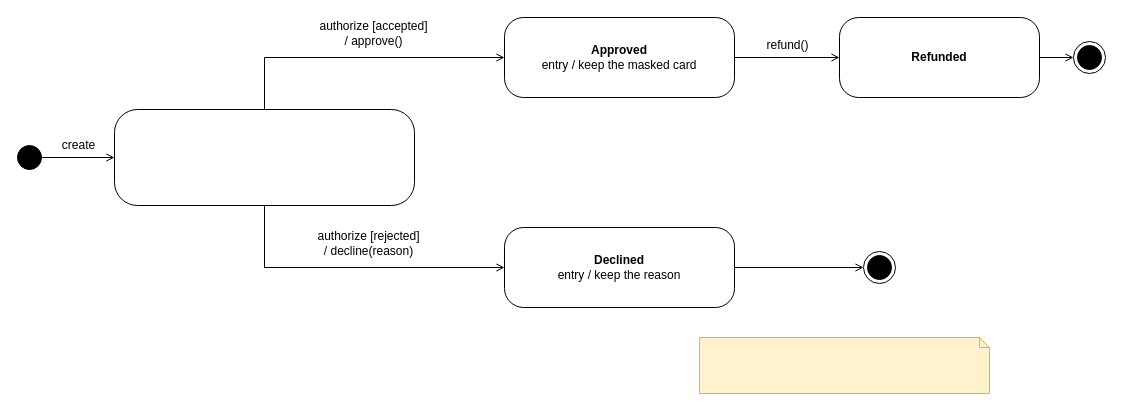
The diagram is 1123 pixels wide and 411 high, and some of its shapes have lost their labels. Each missing label, with the centre of its shape:
"A retry creates a new Payment, so nothing leaves Declined or Refunded." belongs at [844,365].
"Pending entry / store the amount and the masked card" belongs at [264,157].
